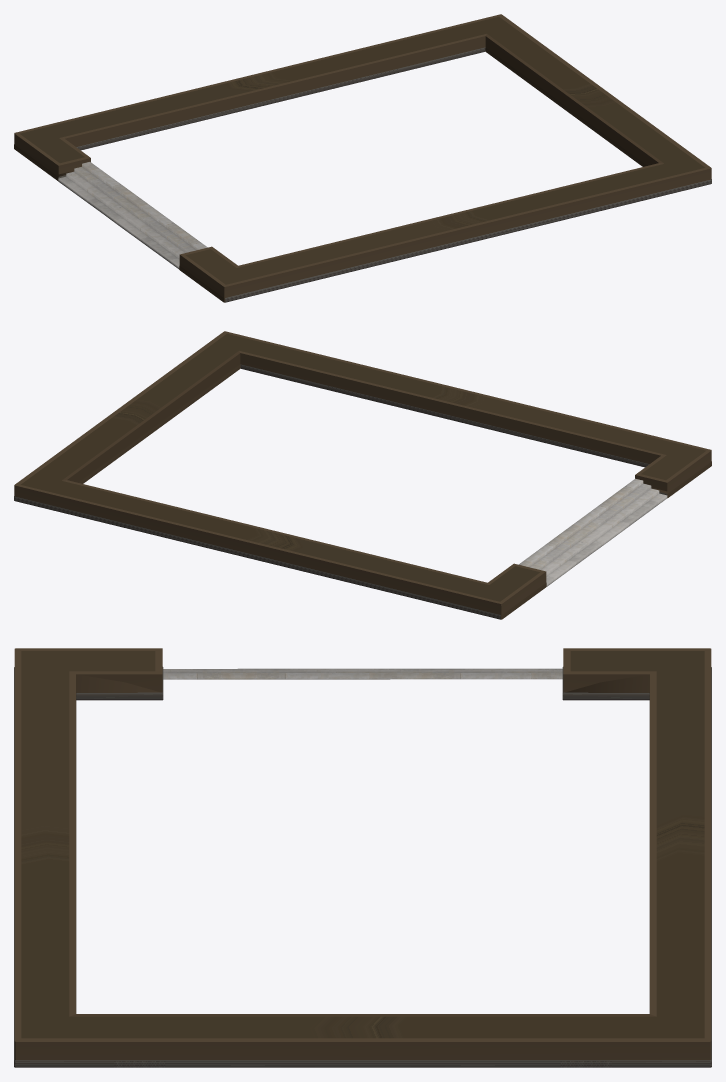
Rendered from objects_un_t06flowerbed01.gltf.
The picture shows the model from 3 angles, top to bottom: view 1: azimuth 30°, elevation 25°; view 2: azimuth 150°, elevation 25°; view 3: azimuth 270°, elevation 25°; orthographic projection. The views are drawn at different scales.
Visible parts, largest first — view 1: um_objects_un_t06flowerbed01_model_lod0Shape:objects_un_t06f (×2), um_objects_un_t06flowerbed01_model_lod2Shape:objects_un_t06f, um_objects_un_t06flowerbed01_model_lod1Shape:objects_un_t06f; view 2: um_objects_un_t06flowerbed01_model_lod0Shape:objects_un_t06f (×2), um_objects_un_t06flowerbed01_model_lod2Shape:objects_un_t06f, um_objects_un_t06flowerbed01_model_lod1Shape:objects_un_t06f; view 3: um_objects_un_t06flowerbed01_model_lod2Shape:objects_un_t06f, um_objects_un_t06flowerbed01_model_lod0Shape:objects_un_t06f (×2), um_objects_un_t06flowerbed01_model_lod1Shape:objects_un_t06f.
Boxes of the visible parts, x1,y1,x2,y2 form: um_objects_un_t06flowerbed01_model_lod0Shape:objects_un_t06f (×2): (14,14,711,302); um_objects_un_t06flowerbed01_model_lod2Shape:objects_un_t06f: (20,16,705,284); um_objects_un_t06flowerbed01_model_lod1Shape:objects_un_t06f: (14,15,711,297); um_objects_un_t06flowerbed01_model_lod0Shape:objects_un_t06f (×2): (14,331,711,619); um_objects_un_t06flowerbed01_model_lod2Shape:objects_un_t06f: (20,333,705,601); um_objects_un_t06flowerbed01_model_lod1Shape:objects_un_t06f: (14,332,711,614); um_objects_un_t06flowerbed01_model_lod2Shape:objects_un_t06f: (21,651,704,1038); um_objects_un_t06flowerbed01_model_lod0Shape:objects_un_t06f (×2): (14,648,711,1067); um_objects_un_t06flowerbed01_model_lod1Shape:objects_un_t06f: (15,648,710,1059).
Size of what is drawn, in the model's own units: 42.35 by 1.29 by 31.69.
Materials: 3 (3 with a texture image).
